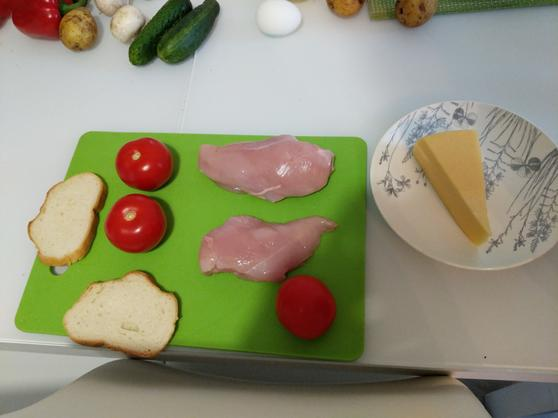champignon: (113, 6, 149, 40)
cheese: (407, 131, 490, 245)
chicken_fillet: (197, 130, 336, 201), (202, 212, 338, 283)
cucumber: (155, 1, 221, 63), (127, 2, 189, 61)
egg: (256, 1, 303, 38)
potato: (60, 8, 99, 58), (395, 1, 434, 26)
tomato: (278, 276, 339, 340), (106, 194, 171, 254), (115, 137, 179, 193)
white_bread: (64, 273, 182, 359), (28, 173, 103, 272)
